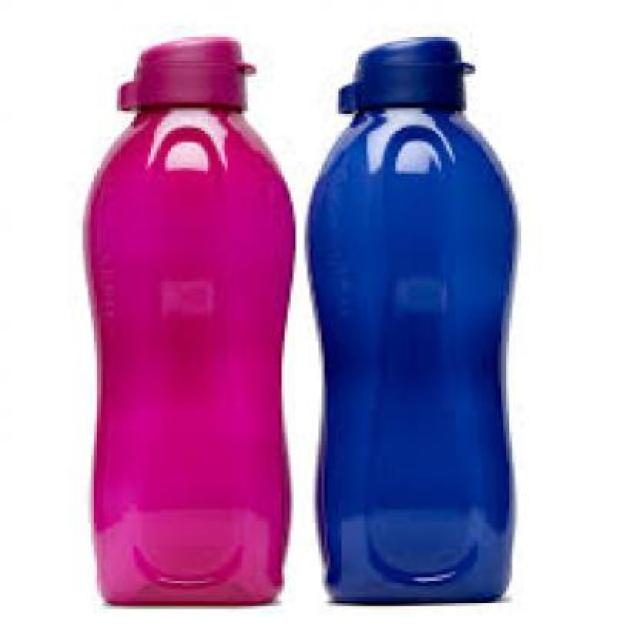Drinking: (69, 29, 296, 628), (304, 29, 534, 612)
